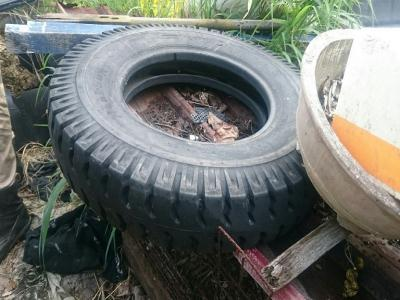tire: (45, 17, 326, 255)
